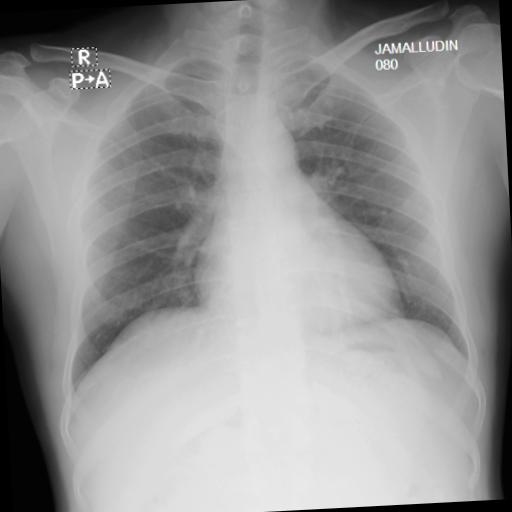kardiomegali: (48, 26, 482, 422)
